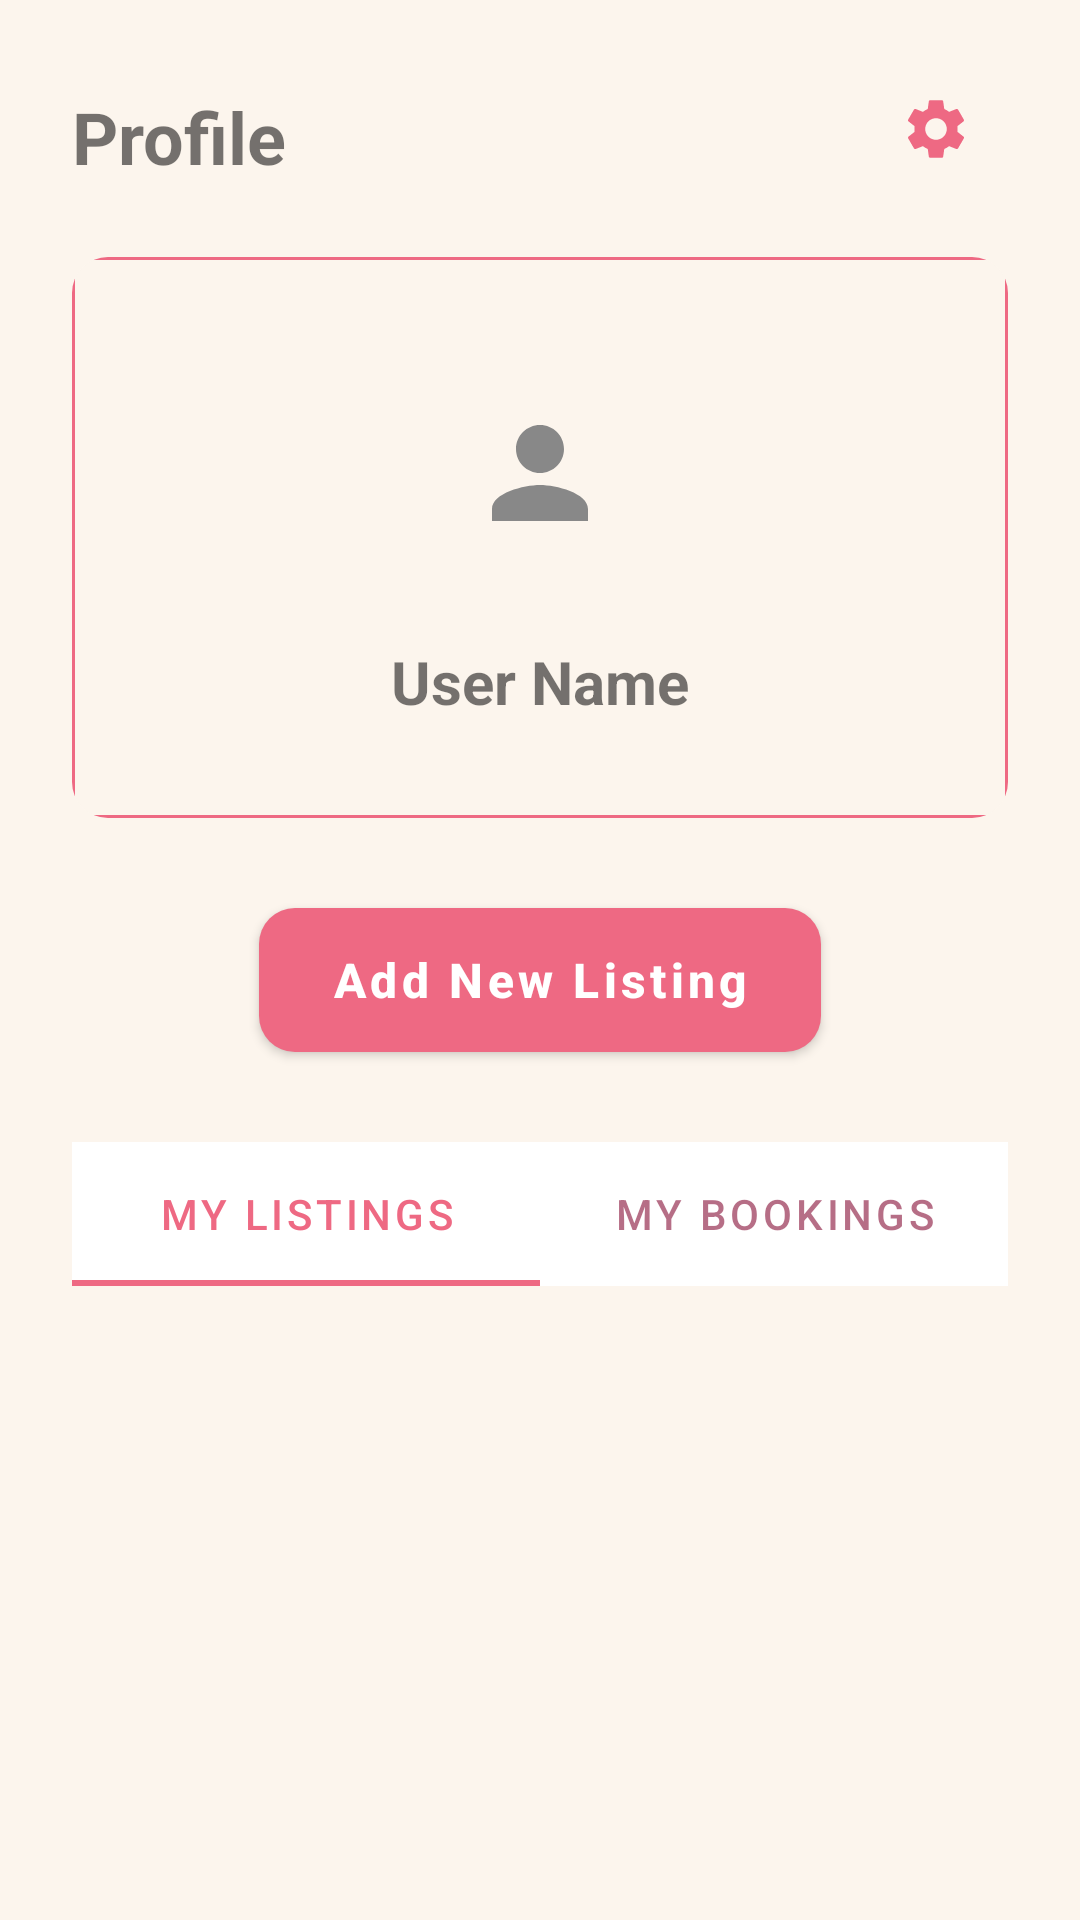

Icon click points for this 1080w x 1920h phone screenshot, format (x=x, y=y):
profile: (x=540, y=473)
Settings: (x=936, y=129)
